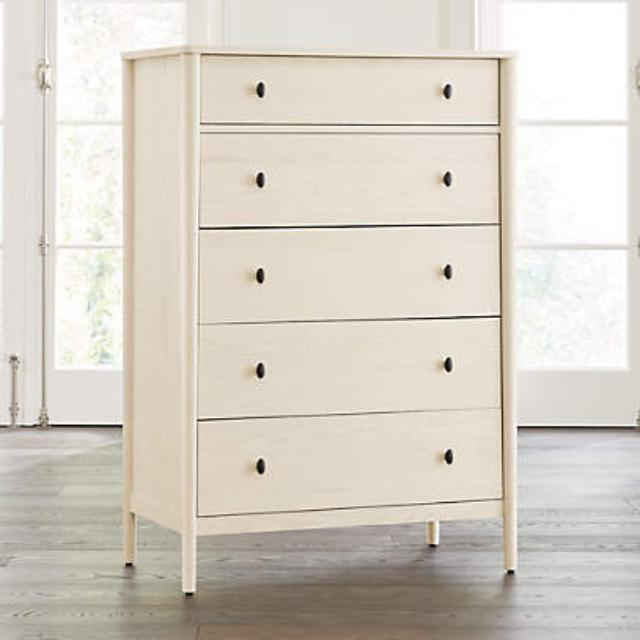dresser: (111, 38, 527, 621)
